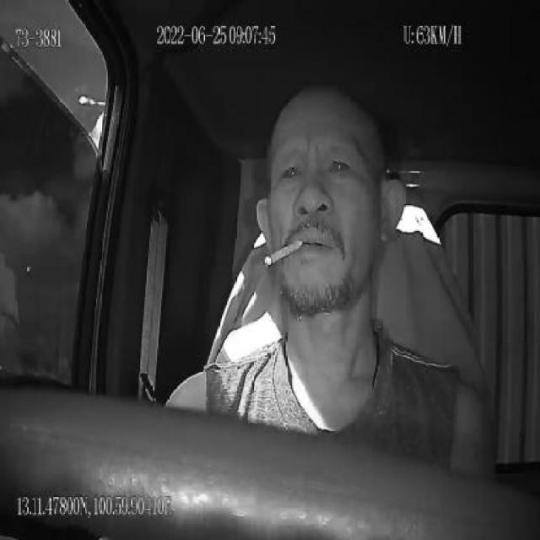smoking: (264, 240, 302, 269)
